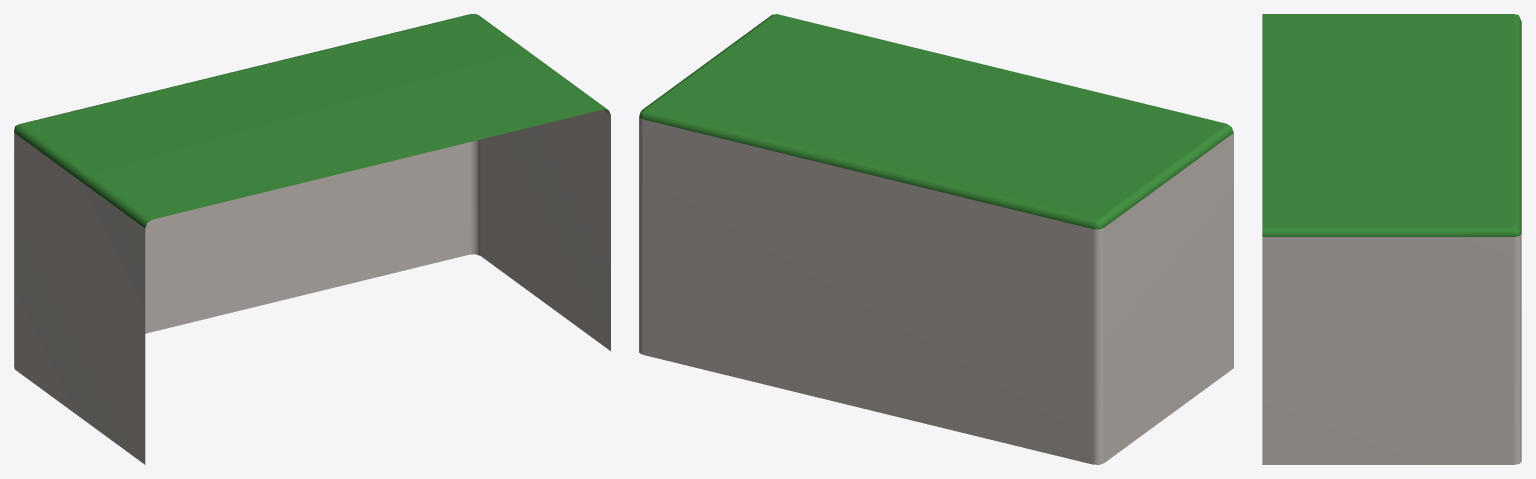
File: cliff_3sided_small.fbx
3 renders of one model, left to right at view 1: azimuth 30°, elevation 25°; view 2: azimuth 150°, elevation 25°; view 3: azimuth 270°, elevation 25°, orthographic. The views are drawn at different scales.
Visible parts, largest first — view 1: Cliff_03_Thin; view 2: Cliff_03_Thin; view 3: Cliff_03_Thin.
Boxes of the visible parts, <box> form: Cliff_03_Thin: <box>14,14,610,464</box>; Cliff_03_Thin: <box>639,14,1233,464</box>; Cliff_03_Thin: <box>1262,14,1521,464</box>.
Bounding box in the file's own units: 200 × 100 × 100.
